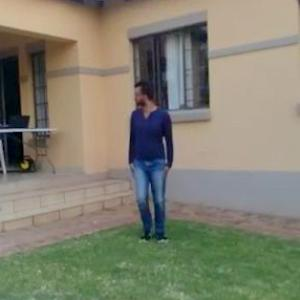follow: (121, 71, 175, 254)
